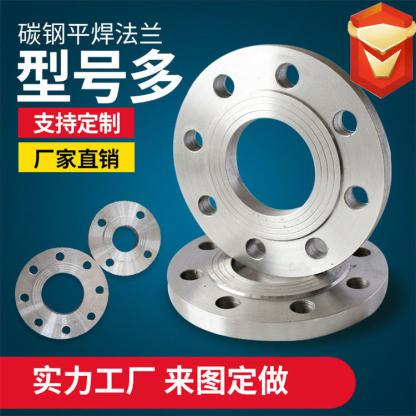FOD: (171, 42, 394, 281), (166, 218, 390, 344), (12, 246, 109, 345), (87, 196, 164, 279)
